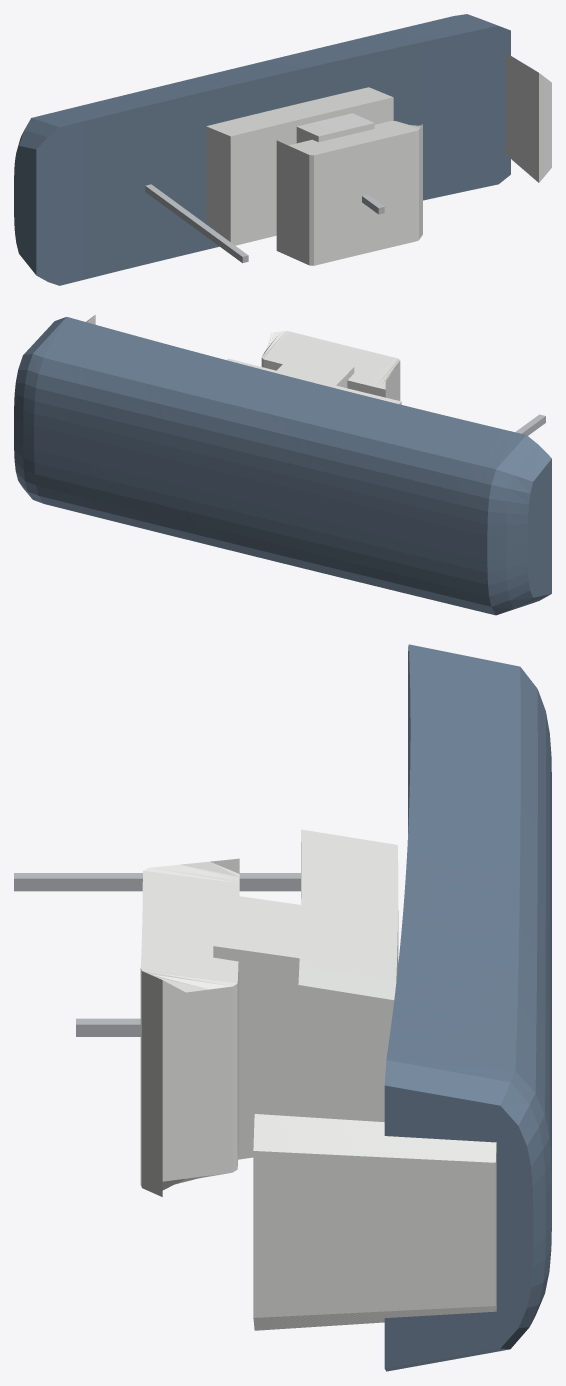
Rendered from loft-pusher-highside.glb.
3 views of the same model, one above another, from view 1: azimuth 30°, elevation 25°; view 2: azimuth 150°, elevation 25°; view 3: azimuth 270°, elevation 25° (orthographic). The views are drawn at different scales.
Visible parts, largest first — view 1: pusher-loft-highside; view 2: pusher-loft-highside; view 3: pusher-loft-highside.
Boxes of the visible parts, box(x1,y1,x2,y2) form: pusher-loft-highside: box(14, 14, 551, 285); pusher-loft-highside: box(14, 314, 551, 615); pusher-loft-highside: box(14, 644, 551, 1371).
Size of the model in its own units: 1.88 by 0.598 by 0.9358.
